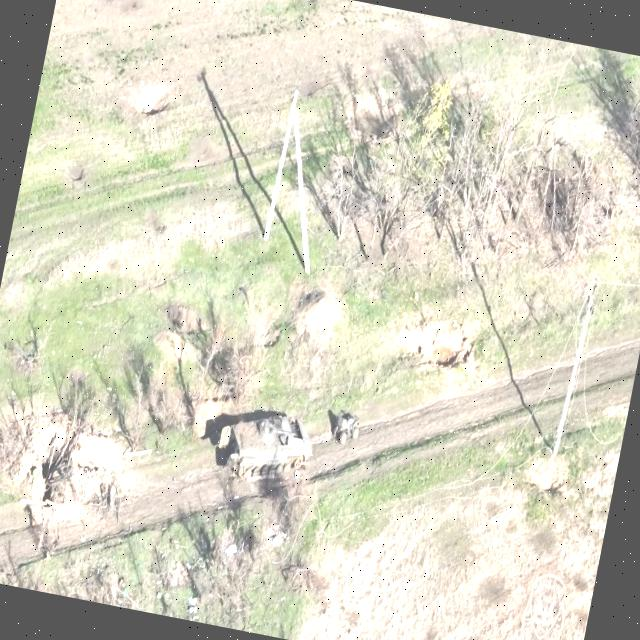AIFV: (212, 403, 320, 497)
Vehicle: (331, 409, 364, 453)
